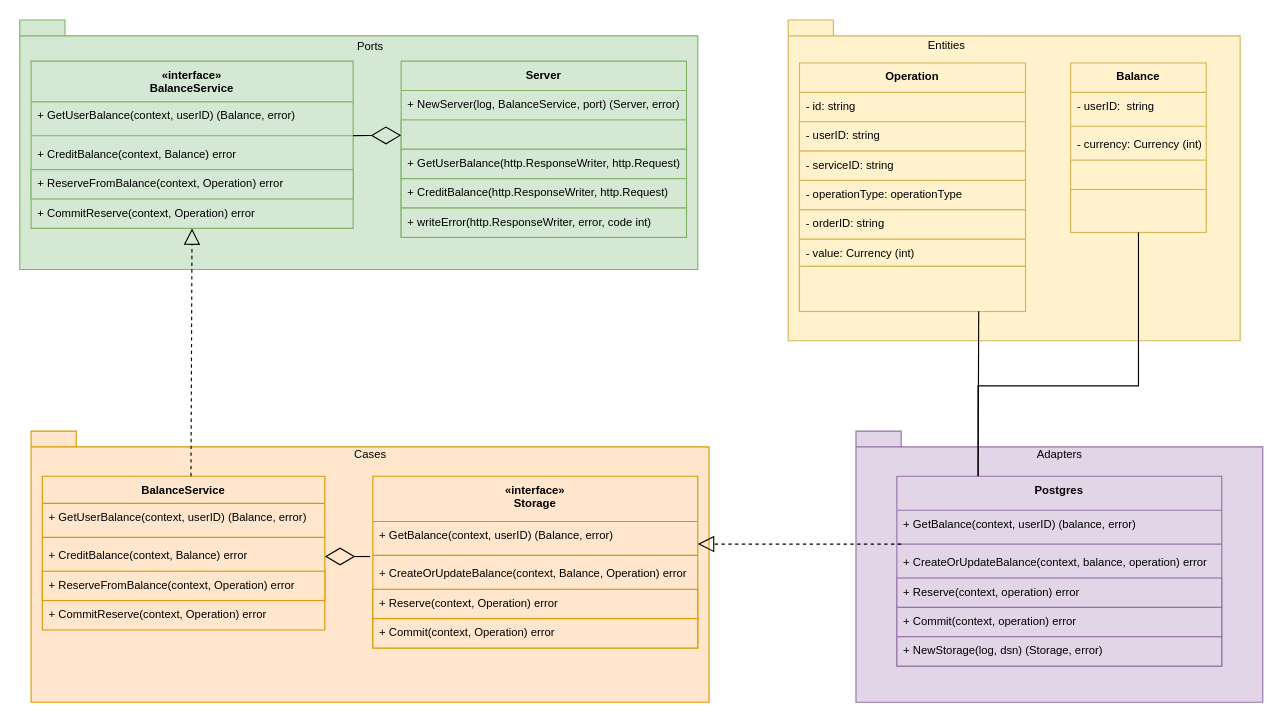
Some shapes in this 1283 by 722 pixel diagram are drawn without their labels. Here are the shapes that lost their labels. From the top down, the centre of each, then its label:
point (543, 134): + Run()
point (1138, 174): - reserve: Currency (int)
point (1138, 210): + NewBalance(userId, currency) Balance
point (911, 288): + NewOperation(userID, serviceI, orderID, operationType, value) Operation
